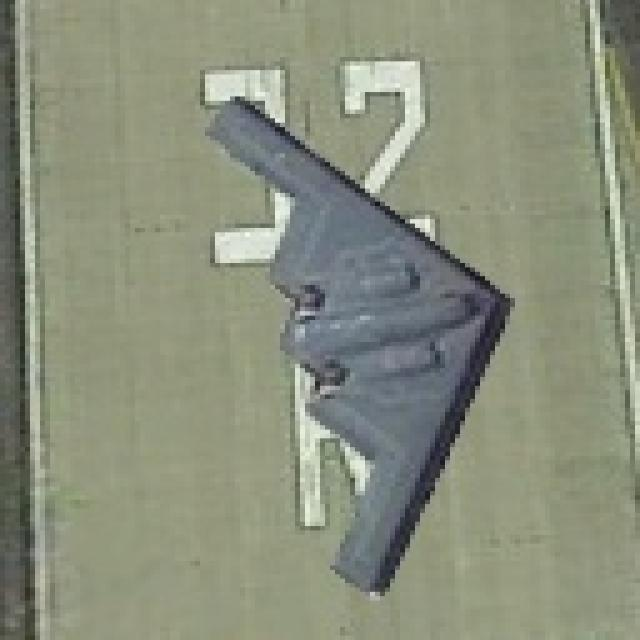B-2_TopDown: (190, 83, 515, 596)
